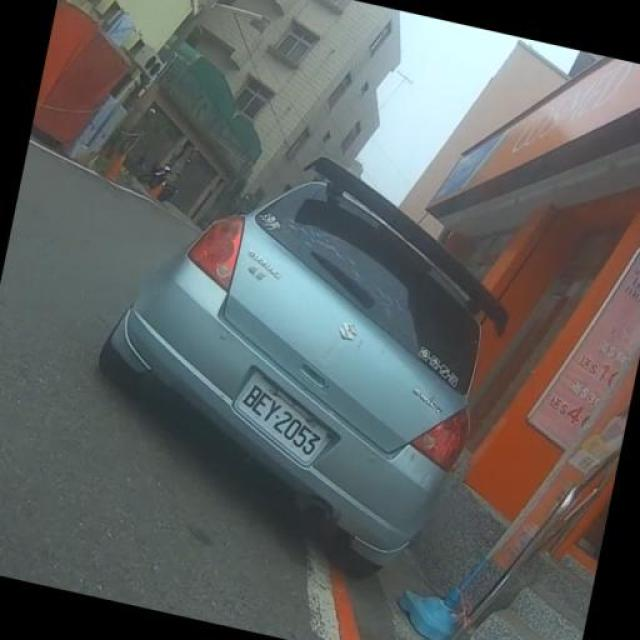Legalparking: (96, 126, 524, 589)
